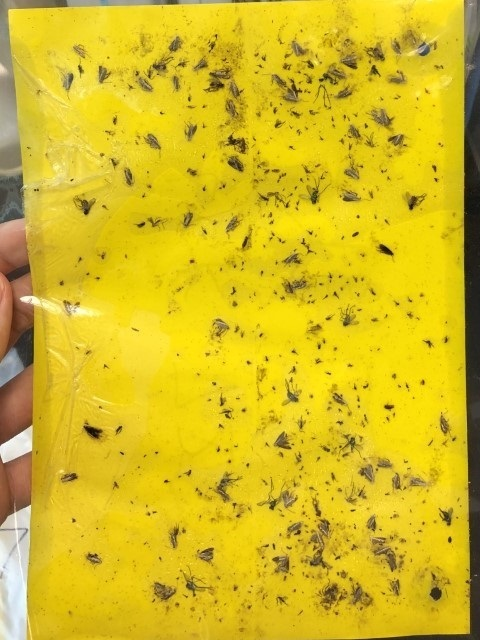DBM: (153, 580, 180, 605), (60, 69, 75, 104), (370, 107, 396, 127), (80, 423, 105, 443), (281, 83, 302, 106), (341, 188, 367, 206), (386, 130, 409, 150), (226, 154, 246, 175), (328, 391, 350, 410), (57, 298, 81, 315), (266, 71, 287, 90), (281, 250, 304, 267), (180, 119, 196, 143), (142, 133, 162, 152), (281, 490, 300, 510), (195, 546, 216, 564), (274, 430, 292, 451), (389, 471, 405, 494), (222, 215, 240, 235), (175, 211, 195, 229), (84, 552, 104, 570), (273, 554, 291, 574), (342, 166, 363, 183), (438, 410, 452, 435), (211, 67, 236, 81), (166, 34, 184, 53), (96, 65, 114, 84), (211, 317, 230, 335), (289, 38, 306, 58), (333, 85, 353, 102), (71, 43, 89, 61), (135, 75, 154, 92), (122, 165, 136, 188), (192, 56, 209, 74), (340, 53, 359, 69), (58, 470, 79, 484), (360, 465, 376, 483), (286, 519, 304, 534), (226, 97, 239, 117), (368, 533, 388, 546), (169, 532, 182, 551), (389, 577, 402, 596), (348, 121, 361, 139), (312, 532, 325, 550), (217, 487, 232, 502), (409, 476, 426, 489), (330, 67, 348, 79), (372, 545, 391, 556), (391, 38, 402, 57), (230, 80, 242, 97), (366, 515, 378, 531), (318, 523, 330, 538), (171, 74, 180, 93)
Other: (179, 565, 215, 599), (255, 477, 282, 514), (300, 176, 331, 206), (279, 376, 302, 408), (336, 433, 366, 457), (305, 551, 336, 573), (404, 187, 428, 213), (338, 302, 361, 329), (70, 193, 98, 215), (225, 131, 250, 153), (436, 504, 456, 529), (364, 41, 387, 62), (150, 55, 174, 74), (202, 77, 225, 96), (347, 583, 365, 606), (147, 215, 170, 233), (316, 67, 337, 85), (342, 485, 358, 508), (308, 494, 324, 517), (376, 241, 396, 259), (277, 277, 294, 296), (74, 57, 88, 80), (354, 484, 370, 500), (274, 594, 290, 609), (287, 106, 304, 120), (369, 62, 383, 78), (255, 191, 271, 204), (423, 337, 437, 351), (383, 399, 396, 413), (273, 117, 287, 130), (216, 393, 228, 407), (239, 234, 250, 249), (176, 57, 189, 69), (113, 425, 123, 436), (348, 228, 359, 237)
